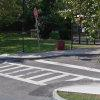Crosswalk: (10, 52, 99, 100)
